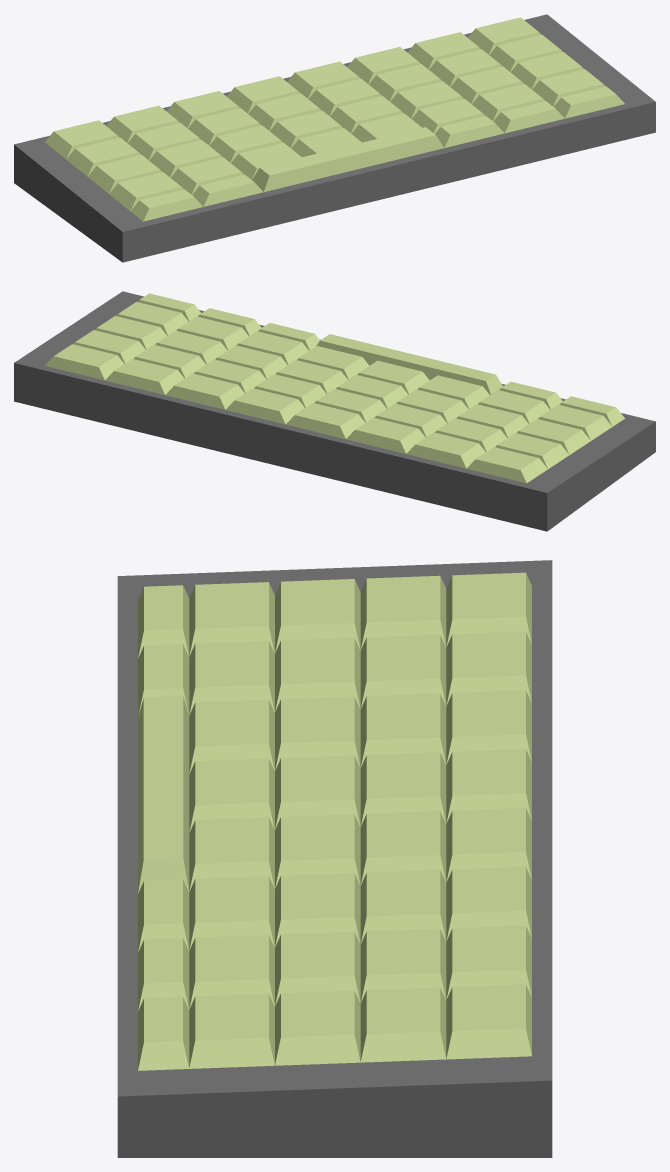
File: Keyboard_Final.fbx
3 renders of one model, top to bottom at view 1: azimuth 30°, elevation 25°; view 2: azimuth 150°, elevation 25°; view 3: azimuth 270°, elevation 25°, orthographic. The views are drawn at different scales.
Visible parts, largest first — view 1: Cube.006; view 2: Cube.006; view 3: Cube.006.
Boxes of the visible parts, x1,y1,x2,y2 form: Cube.006: (14, 14, 655, 262); Cube.006: (14, 291, 655, 531); Cube.006: (117, 560, 552, 1157).
Bounding box in the file's own units: 28.54 × 2.48 × 10.08.
